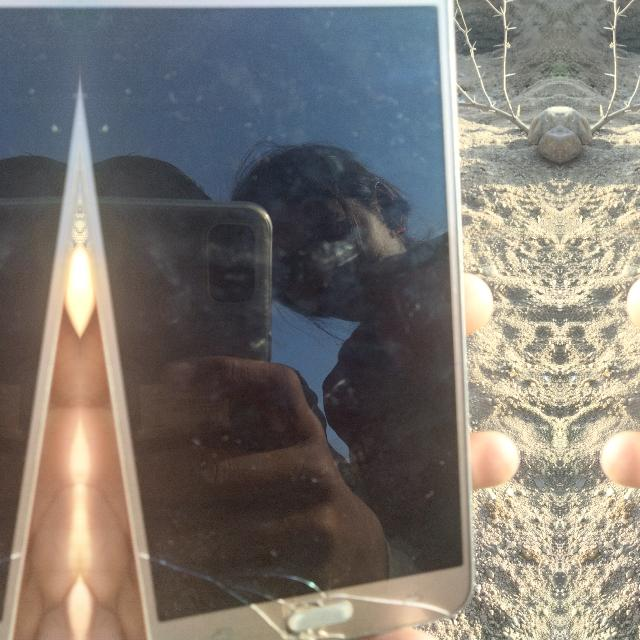phone_screen: (81, 3, 469, 636), (0, 6, 78, 624)
